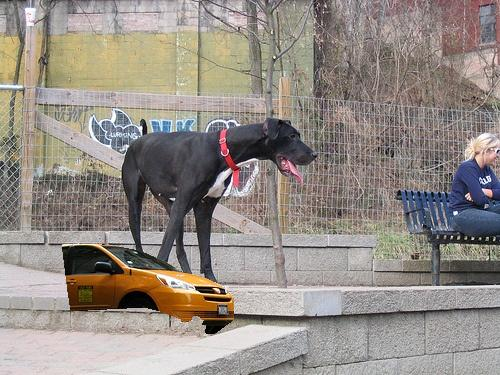tampered: (63, 244, 234, 334)
